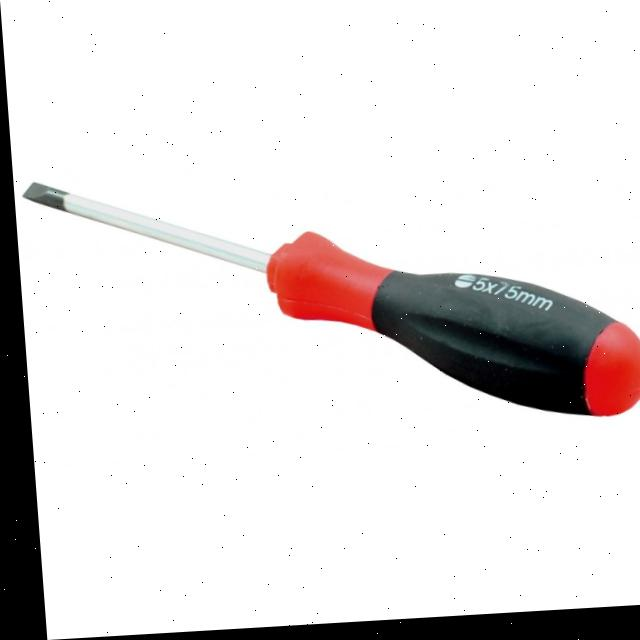Screwdriver: (20, 183, 640, 423)
